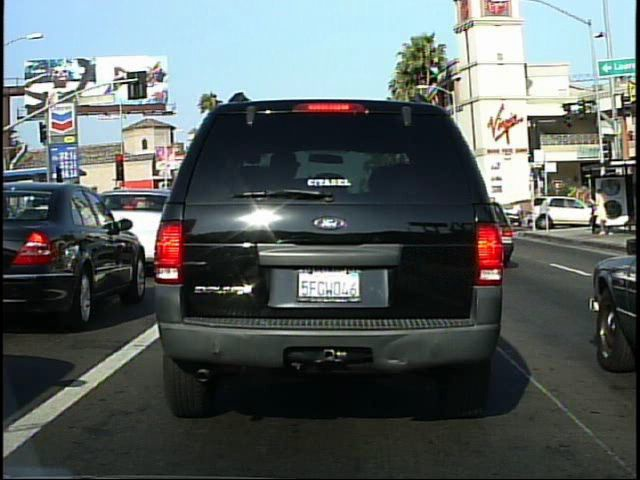person: (591, 183, 610, 237), (512, 199, 525, 227)
